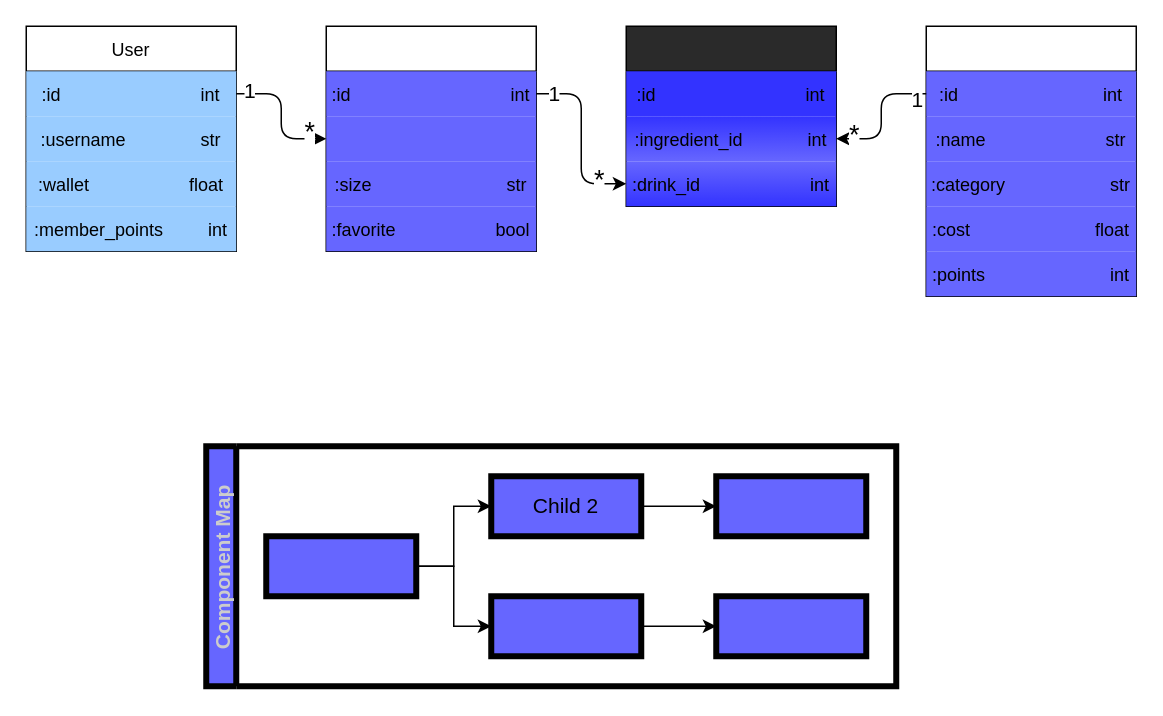
Image size: 1163x716. Some labels were removed from this diagram. The shapes that lost their labels are listed below. From the top down, each one's box as (x1, y1, x2, y2) in pixels, then its label:
(625, 25, 836, 206): Customization
(325, 25, 536, 251): Drink
(326, 116, 536, 160): :user_id int
(925, 25, 1136, 296): Ingredients
(712, 472, 868, 538): Grand Child 2
(262, 532, 418, 598): App
(488, 592, 644, 658): Child 1
(712, 592, 868, 658): Grand Child 1
